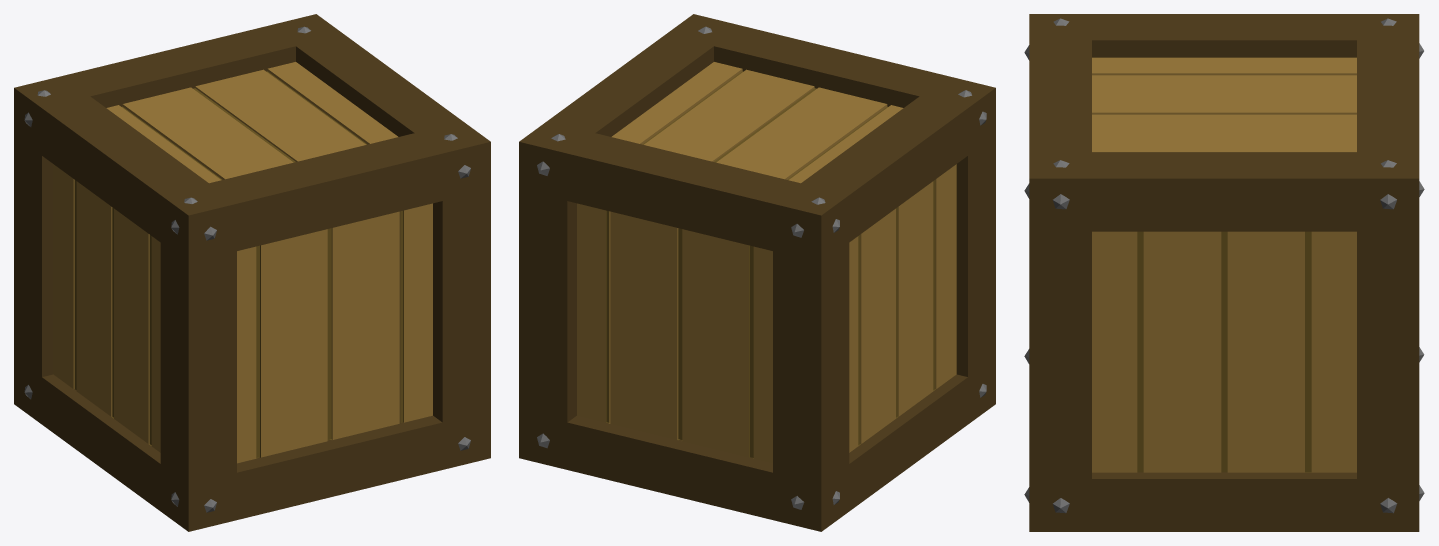
Rendered from Container.fbx.
3 views of the same model, side by side, from view 1: azimuth 30°, elevation 25°; view 2: azimuth 150°, elevation 25°; view 3: azimuth 270°, elevation 25° (orthographic). The views are drawn at different scales.
Parts seen in each view (by area): view 1: Cube; view 2: Cube; view 3: Cube.
Part boxes in pixels (<box>): Cube: <box>14,14,490,531</box>; Cube: <box>519,14,995,531</box>; Cube: <box>1029,14,1419,531</box>.
Size of the model in its own units: 1606 by 1604 by 1606.
